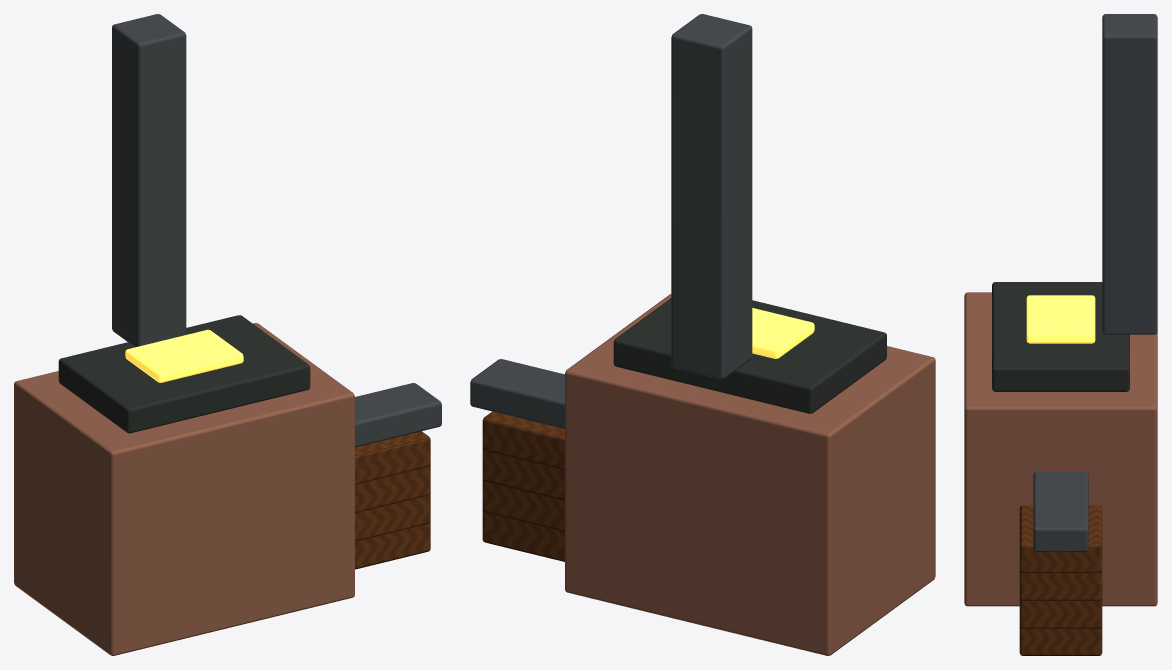
File: undercity-sewers-and-thieves-den-forgelet-8f0cc5de__27237.glb
3 renders of one model, left to right at view 1: azimuth 30°, elevation 25°; view 2: azimuth 150°, elevation 25°; view 3: azimuth 270°, elevation 25°, orthographic. The views are drawn at different scales.
Visible parts, largest first — view 1: forgelet; view 2: forgelet; view 3: forgelet.
Part boxes in pixels (<box>): forgelet: <box>14,14,441,655</box>; forgelet: <box>470,14,935,655</box>; forgelet: <box>964,14,1157,655</box>.
Bounding box in the file's own units: 1.5 × 2.1 × 0.7.
Materials: 5 (1 with a texture image).
